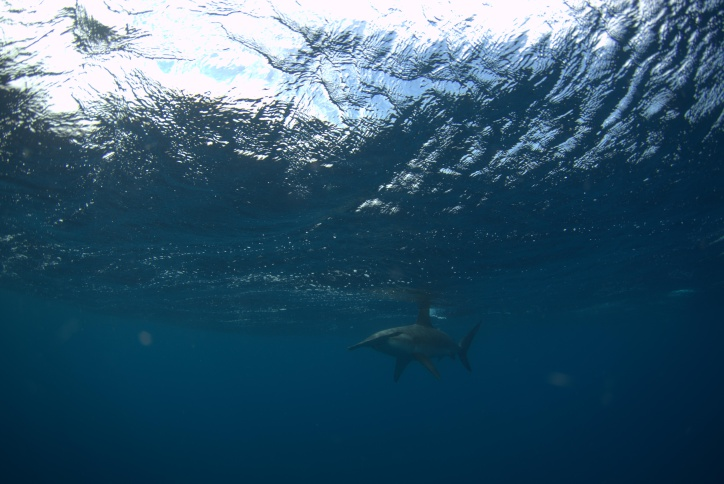Hammer: (345, 284, 498, 400)
